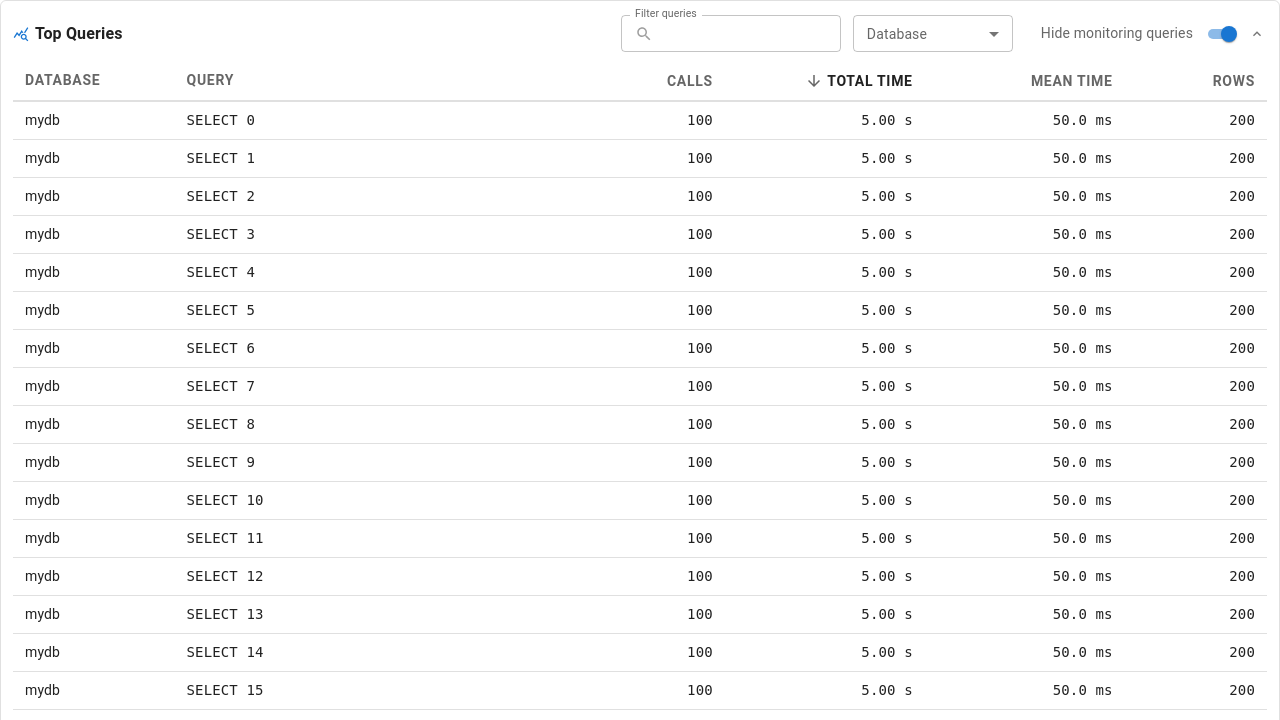
TopQueriesSection › filters the request by the selected database
Press the mouse on the dropdown named "Database": (933, 34) [853,15,1013,52]
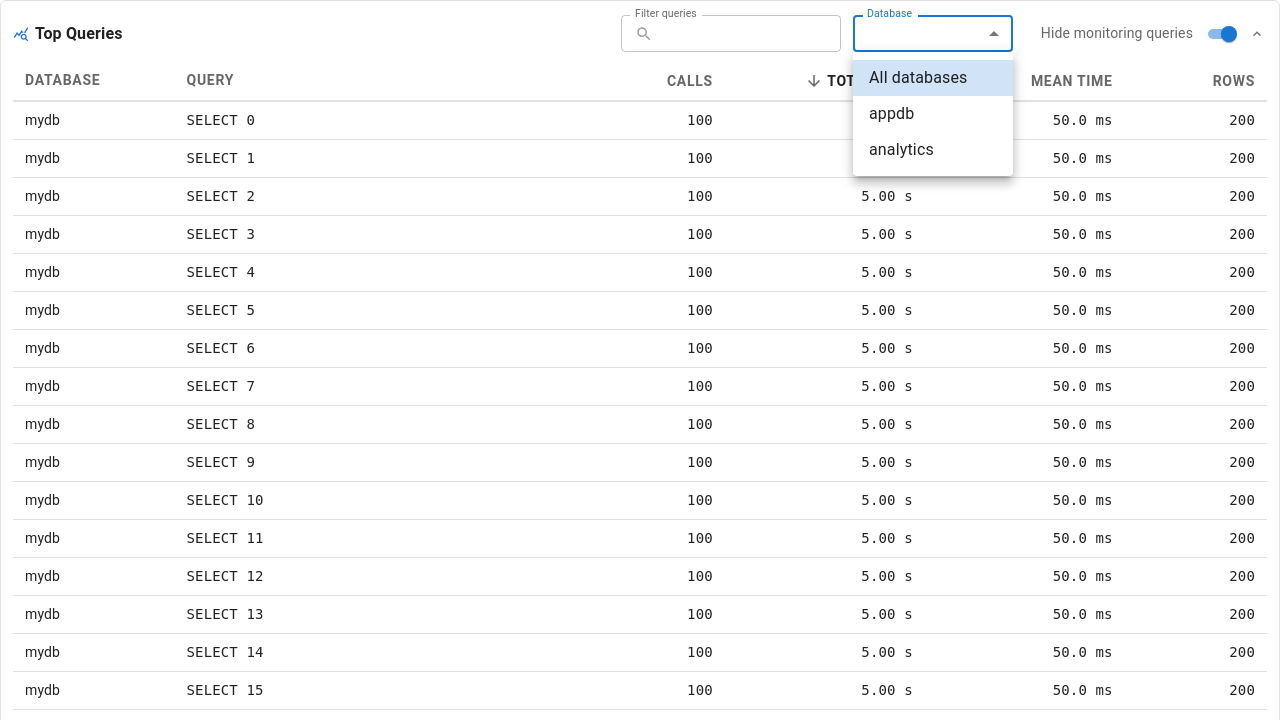
Click the option "analytics": (901, 150) [869,140,934,159]
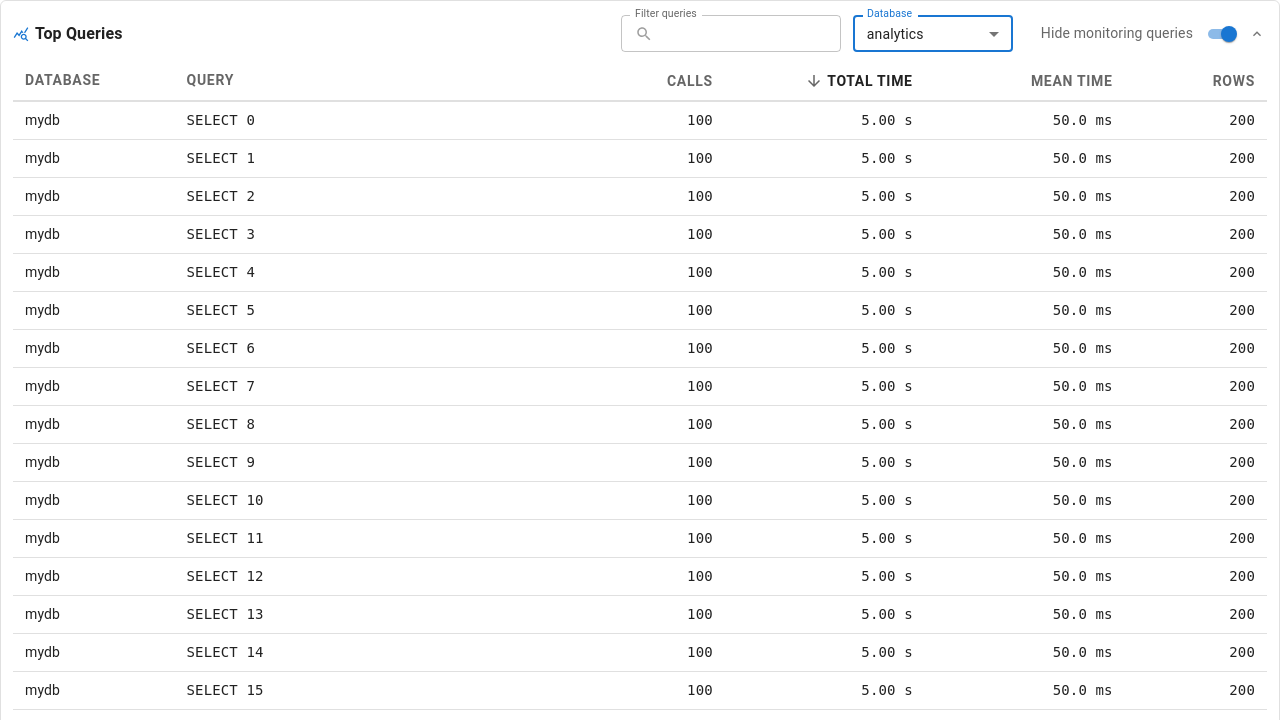
Now the dropdown named "Database" reads "analytics", box [867,26,924,42]
